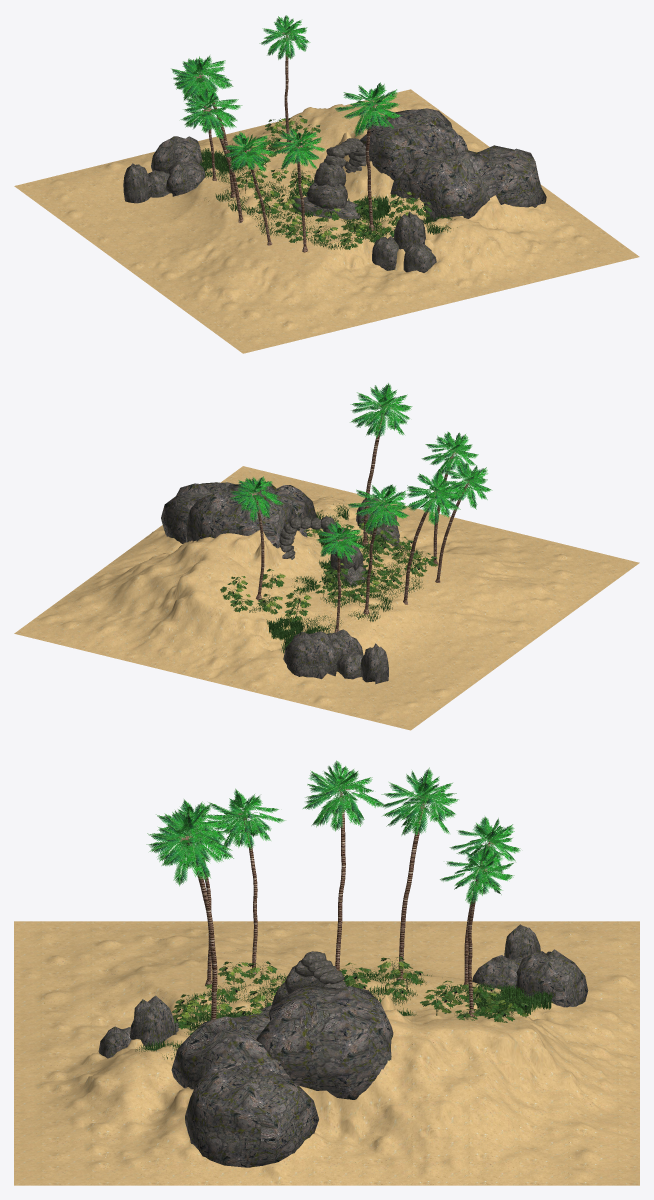
Rendered from Small Tropical Island.obj.
The picture shows the model from 3 angles, top to bottom: view 1: azimuth 30°, elevation 25°; view 2: azimuth 150°, elevation 25°; view 3: azimuth 270°, elevation 25°; orthographic projection. The views are drawn at different scales.
Parts seen in each view (by area): view 1: terrain, rocks, palm leaves, plants, grass, palm stems; view 2: terrain, rocks, palm leaves, plants, grass, palm stems; view 3: terrain, rocks, palm leaves, plants, palm stems, grass.
Boxes of the visible parts, box(x1,y1,x2,y2) form: terrain: box(14, 89, 639, 353); rocks: box(123, 108, 546, 272); palm leaves: box(171, 15, 401, 171); plants: box(236, 115, 431, 249); grass: box(200, 137, 457, 249); palm stems: box(193, 32, 377, 252); terrain: box(14, 466, 639, 730); rocks: box(161, 481, 401, 684); palm leaves: box(230, 383, 492, 562); plants: box(220, 517, 437, 622); grass: box(246, 503, 423, 653); palm stems: box(249, 405, 473, 632); terrain: box(14, 921, 639, 1185); rocks: box(98, 924, 588, 1167); palm leaves: box(146, 760, 520, 906); plants: box(171, 956, 528, 1034); palm stems: box(177, 788, 495, 1020); grass: box(135, 970, 552, 1059).
Size of the model in its own units: 711 by 327 by 711.
